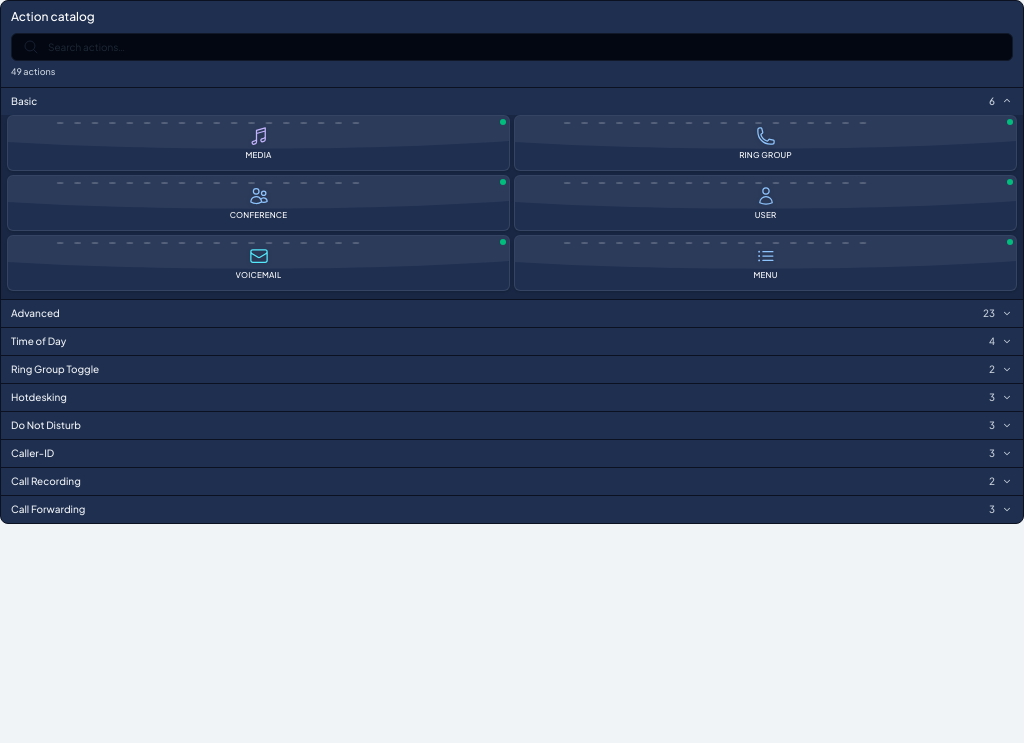
Test: CallflowActionPalette › matches the installed Switch category order and legacy action labels
This screenshot has width=1024, height=743.
Click the button "Advanced 23" at (35, 312), box [1,300,1023,326]
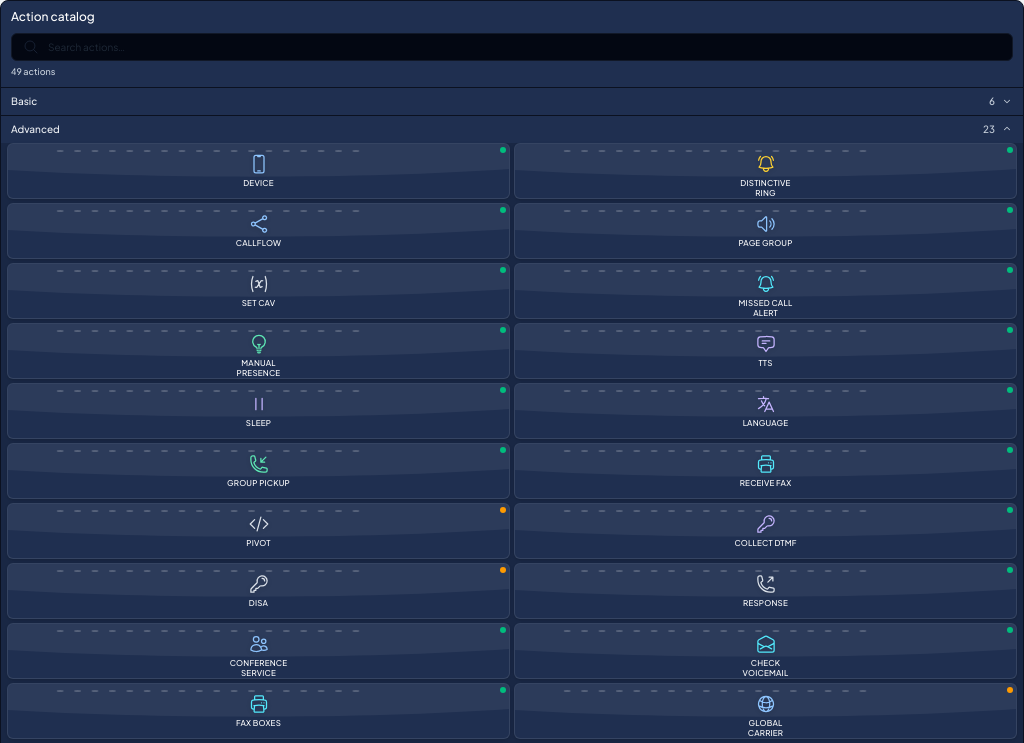
Type "Start Call Recording" into the search field with placeholder "Search actions…" at (512, 47), box [11,33,1013,61]
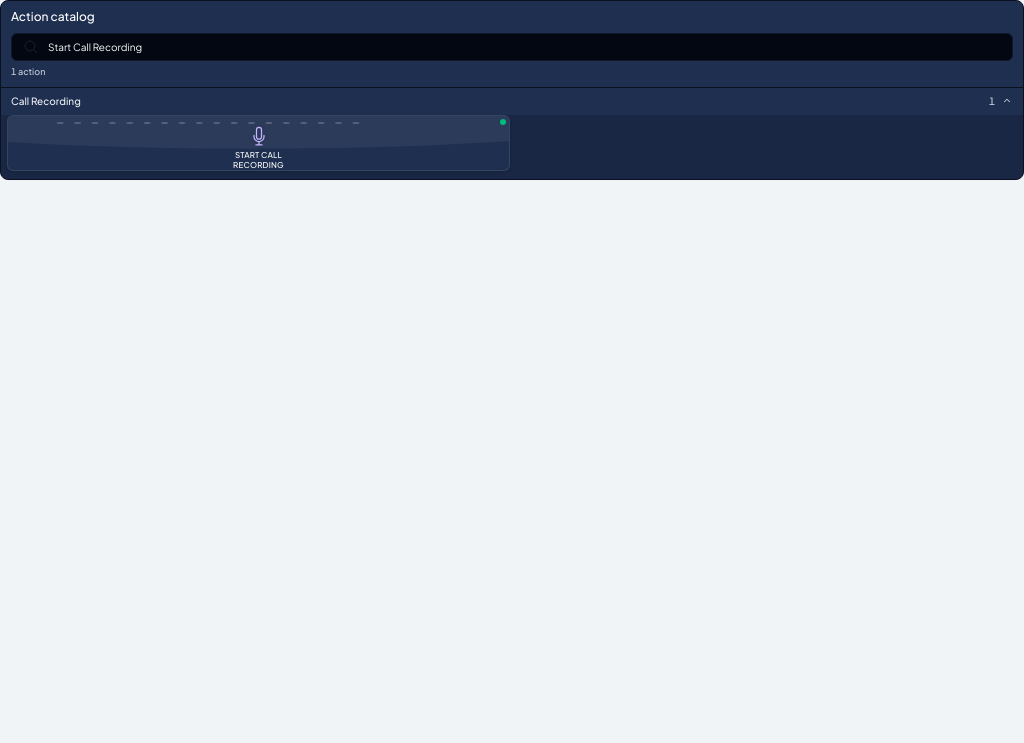
Check: the text "Start Call Recording" is shown, box [233,150,284,170]
